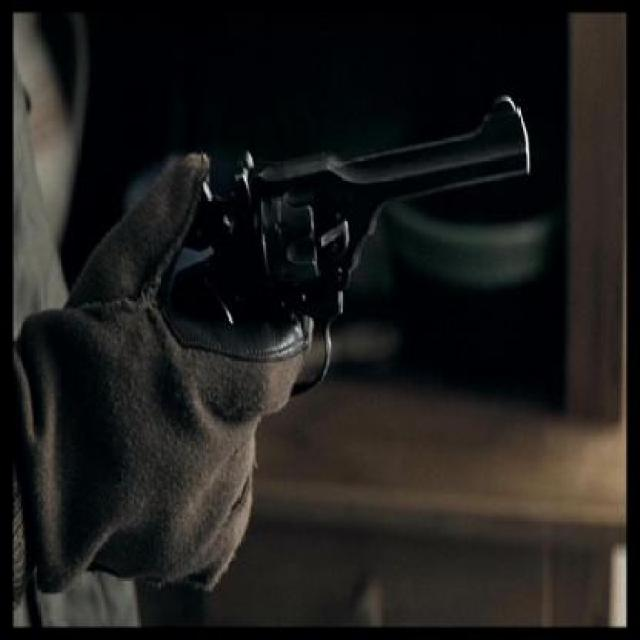guns: (198, 104, 544, 296)
